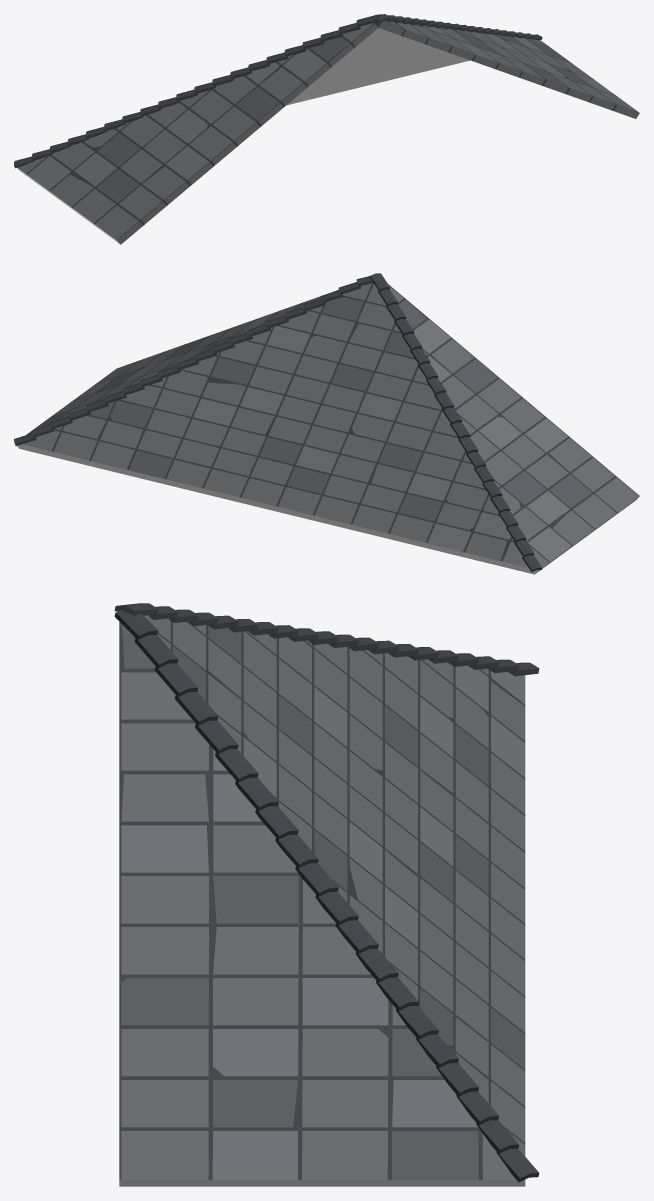
Rendered from Roof3_C8_02.fbx.
The picture shows the model from 3 angles, top to bottom: view 1: azimuth 30°, elevation 25°; view 2: azimuth 150°, elevation 25°; view 3: azimuth 270°, elevation 25°; orthographic projection. The views are drawn at different scales.
Visible parts, largest first — view 1: Roof3_C8_02; view 2: Roof3_C8_02; view 3: Roof3_C8_02.
Boxes of the visible parts, x1,y1,x2,y2 form: Roof3_C8_02: (14, 14, 639, 244); Roof3_C8_02: (14, 273, 639, 574); Roof3_C8_02: (114, 603, 539, 1186).
Size of the model in its own units: 842 by 251 by 293.
